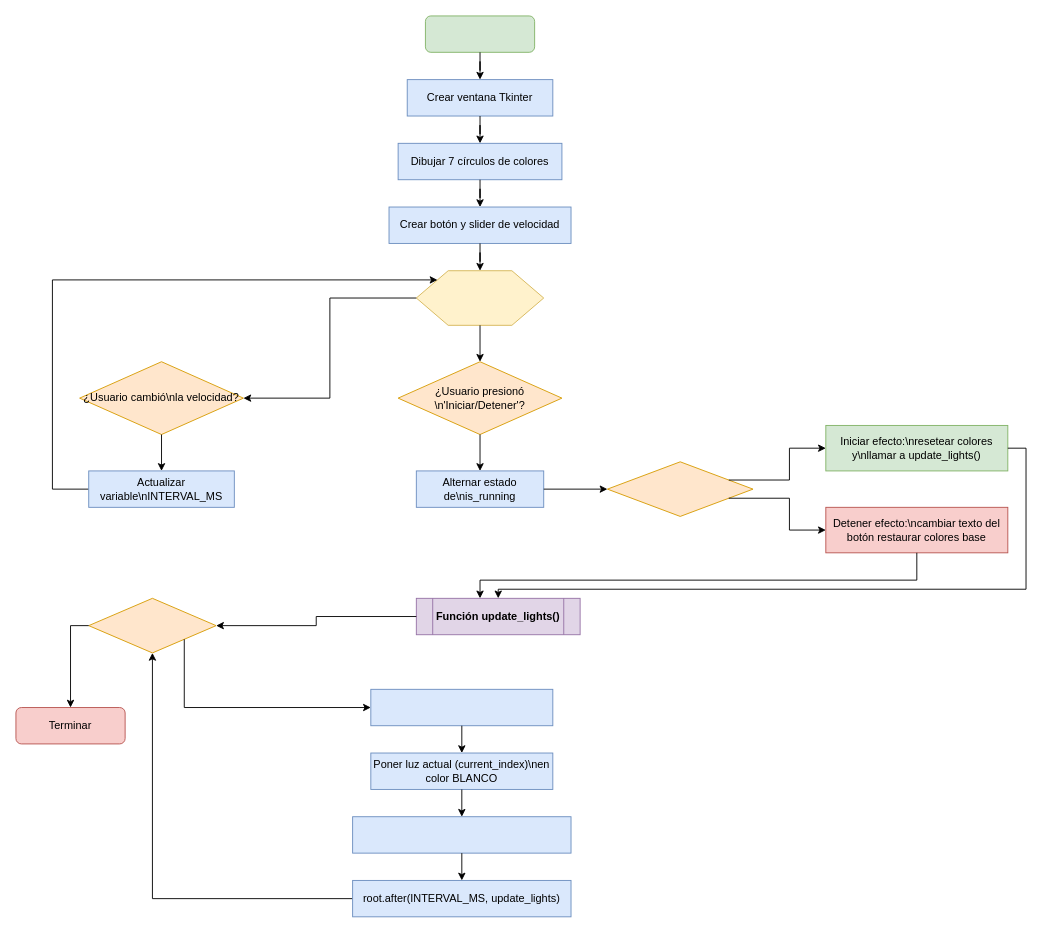
This 1049x933 diagram has some shape labels left out. The centre of each missing label's shape, as x and y in pixels:
"current_index = (current_index + 1) % 7" goes at pixel 461 834.
"Esperar eventos del usuario" goes at pixel 479 297.
"INICIO" goes at pixel 480 33.
"Restaurar intensidad de\nluz anterior (prev_index)" goes at pixel 461 707.
"¿is_running == True?" goes at pixel 680 488.
"¿is_running?" goes at pixel 152 625.
